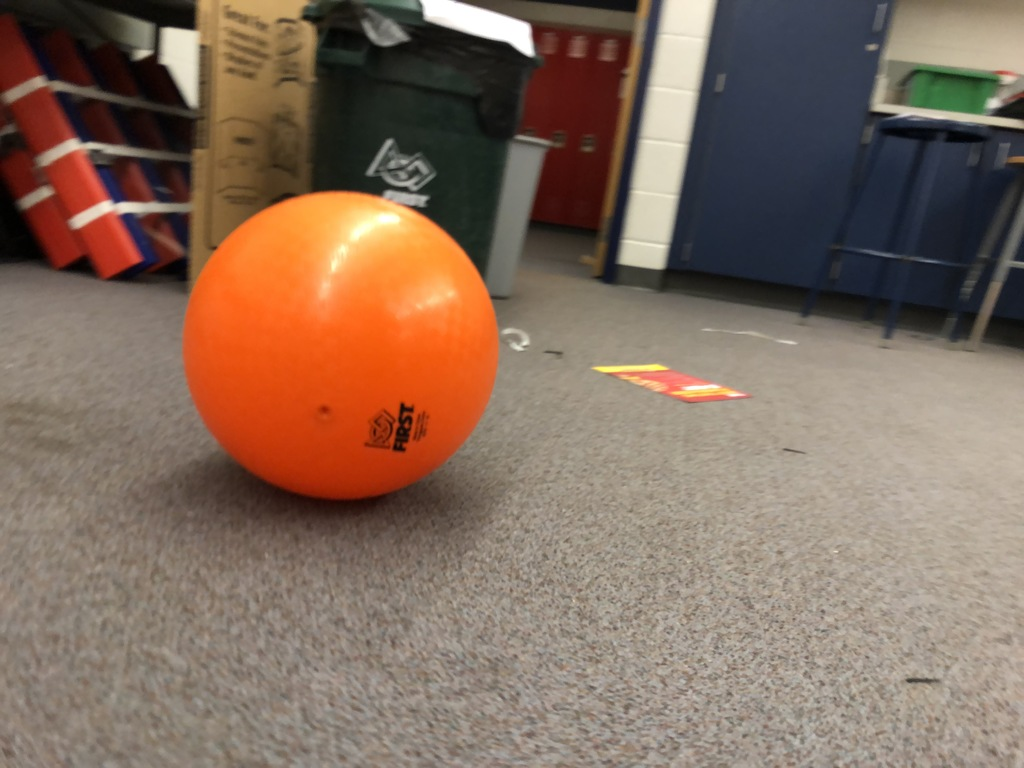cargo: (178, 183, 509, 507)
